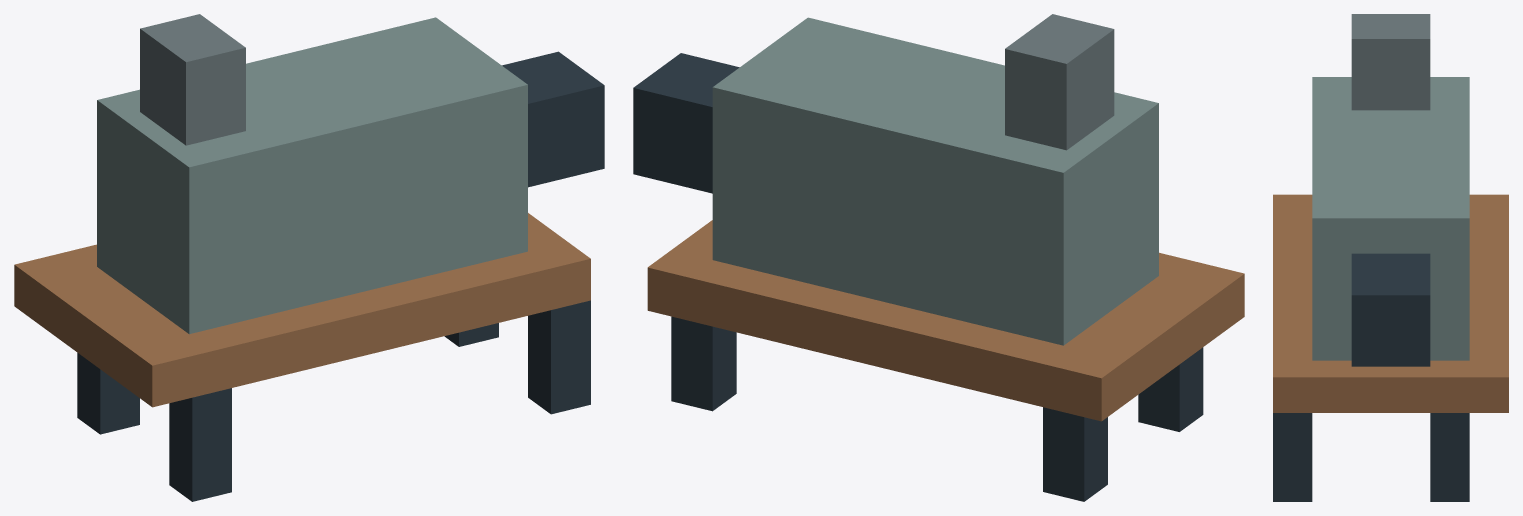
File: robotics-07.glb
3 views of the same model, side by side, from view 1: azimuth 30°, elevation 25°; view 2: azimuth 150°, elevation 25°; view 3: azimuth 270°, elevation 25° (orthographic). The views are drawn at different scales.
Parts seen in each view (by area): view 1: Servo motor; view 2: Servo motor; view 3: Servo motor.
Boxes of the visible parts, <box> form: Servo motor: <box>14,14,604,501</box>; Servo motor: <box>633,14,1244,501</box>; Servo motor: <box>1273,14,1508,501</box>.
Bounding box in the file's own units: 2 × 1.52 × 0.96.
